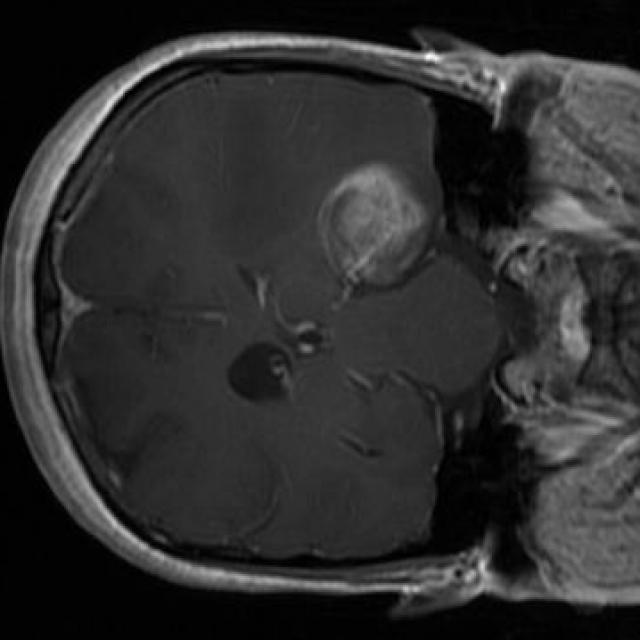glioma: (317, 164, 437, 298)
